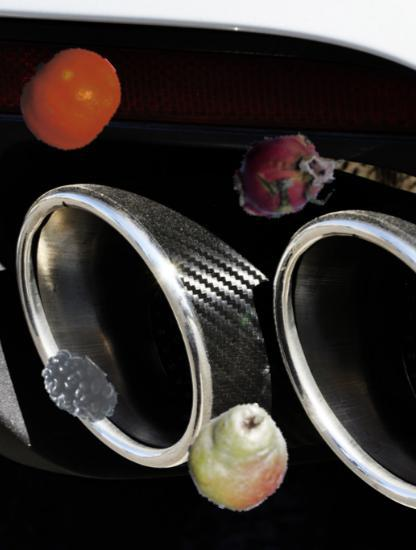Clementine: (18, 45, 124, 151)
Mulberry: (25, 345, 119, 439)
Pear: (183, 400, 294, 511)
Pitahaya: (229, 115, 346, 232)
